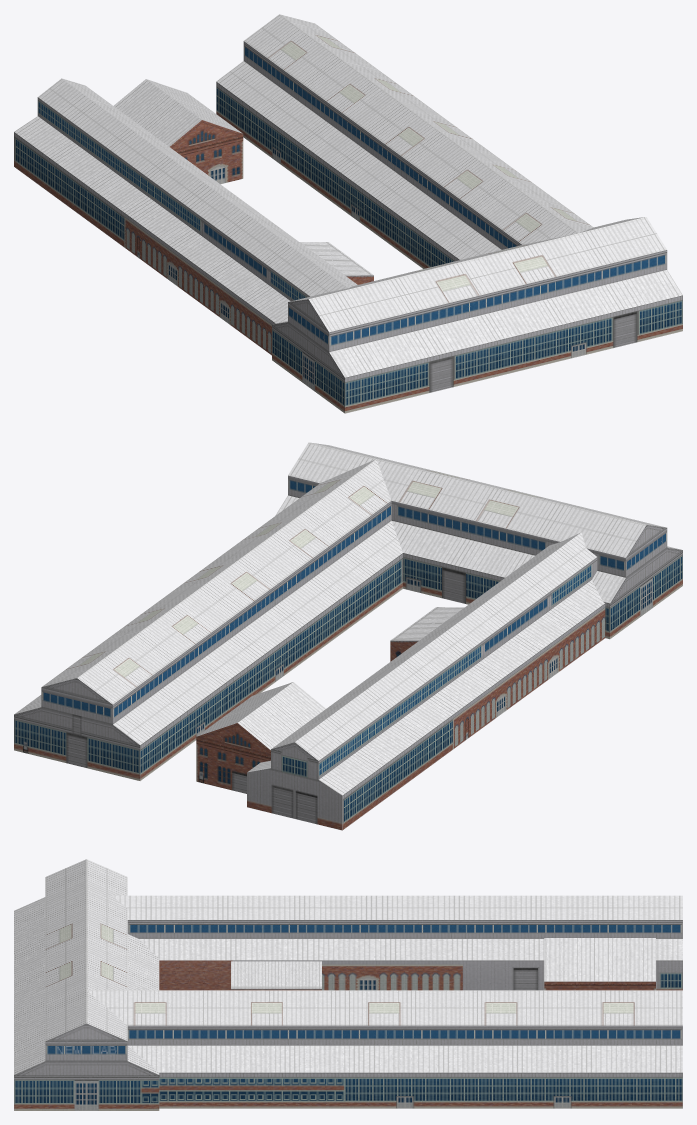
The model's file is NEWLAB.glb.
The picture shows the model from 3 angles, top to bottom: view 1: azimuth 30°, elevation 25°; view 2: azimuth 150°, elevation 25°; view 3: azimuth 270°, elevation 25°; orthographic projection.
Visible parts, largest first — view 1: NEWLAB; view 2: NEWLAB; view 3: NEWLAB.
Boxes of the visible parts, x1=… form: NEWLAB: x1=14, y1=14, x2=682, y2=413; NEWLAB: x1=14, y1=442, x2=682, y2=830; NEWLAB: x1=14, y1=859, x2=682, y2=1110.
Size of the model in its own units: 355 by 88 by 610.
1 material, 1 textured.
